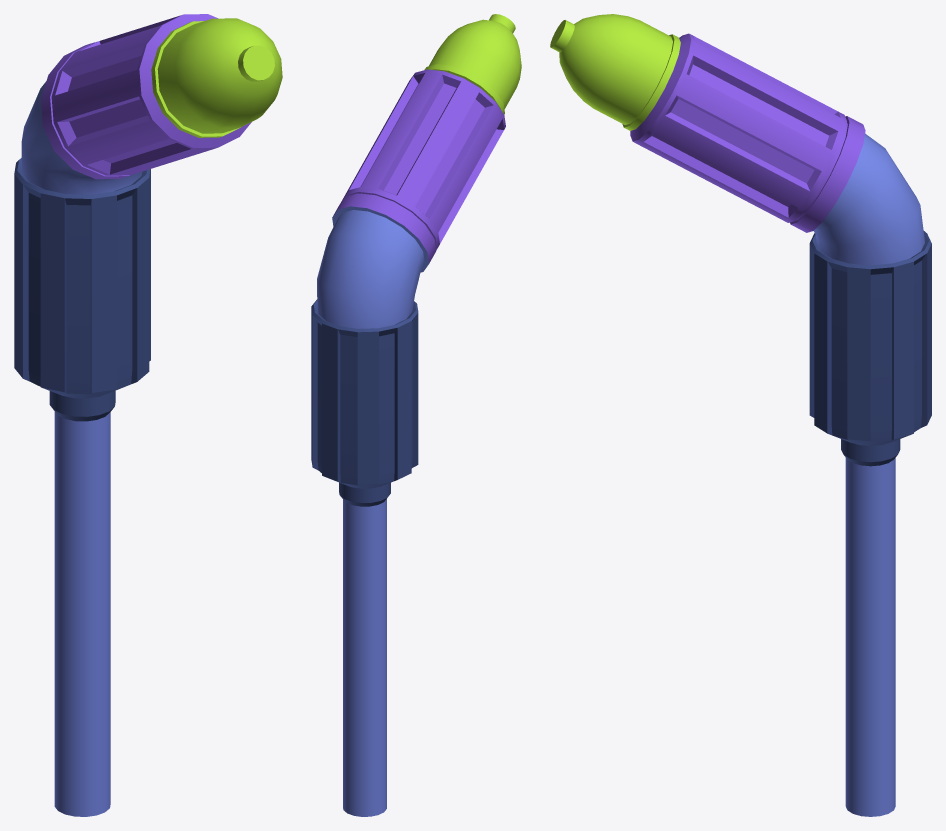
The model's file is PumpSprayer.fbx.
The picture shows the model from 3 angles, left to right: view 1: azimuth 30°, elevation 25°; view 2: azimuth 150°, elevation 25°; view 3: azimuth 270°, elevation 25°; orthographic projection. The views are drawn at different scales.
Parts seen in each view (by area): view 1: PumpSprayer; view 2: PumpSprayer; view 3: PumpSprayer.
Boxes of the visible parts, x1,y1,x2,y2 form: PumpSprayer: (14,14,282,816); PumpSprayer: (311,14,521,816); PumpSprayer: (550,14,931,816).
Bounding box in the file's own units: 0.9455 × 6.71 × 2.95.
